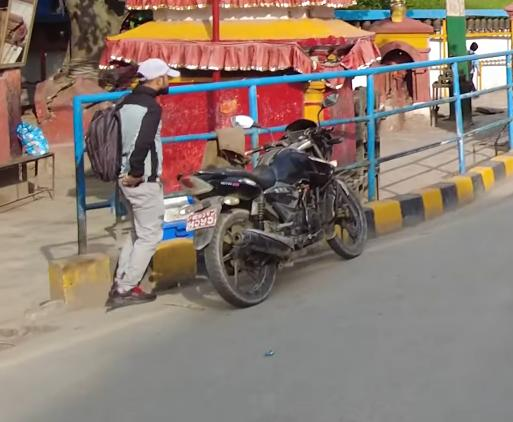bike: (169, 88, 388, 308)
